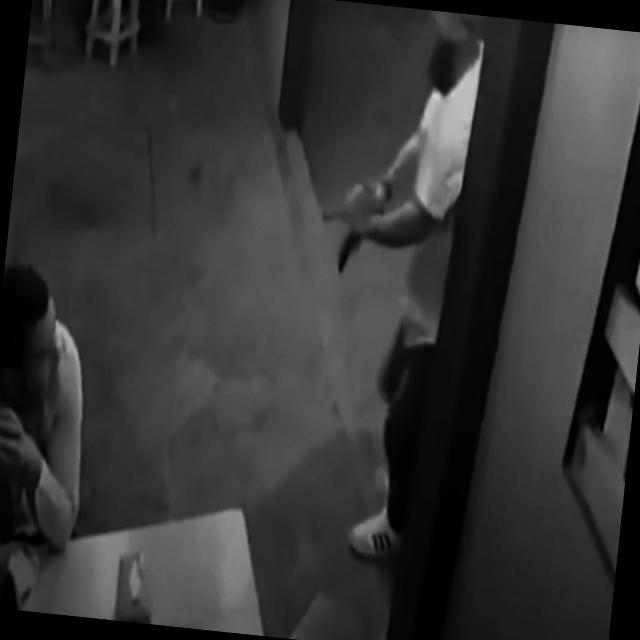gun: (337, 227, 360, 276)
person: (0, 259, 107, 553)
person with a gun: (308, 3, 487, 567)
